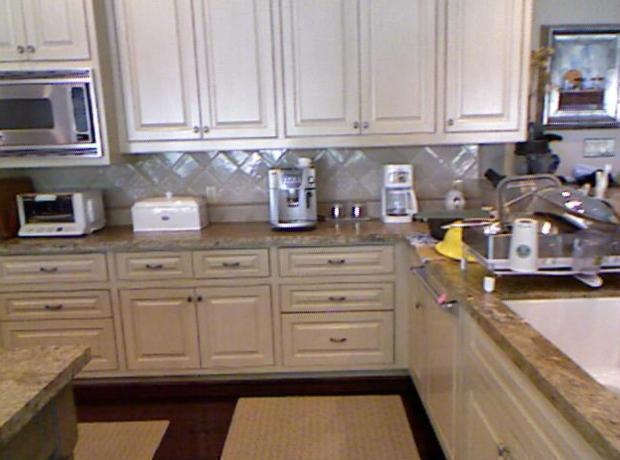Lavaplatos: (491, 280, 616, 414)
